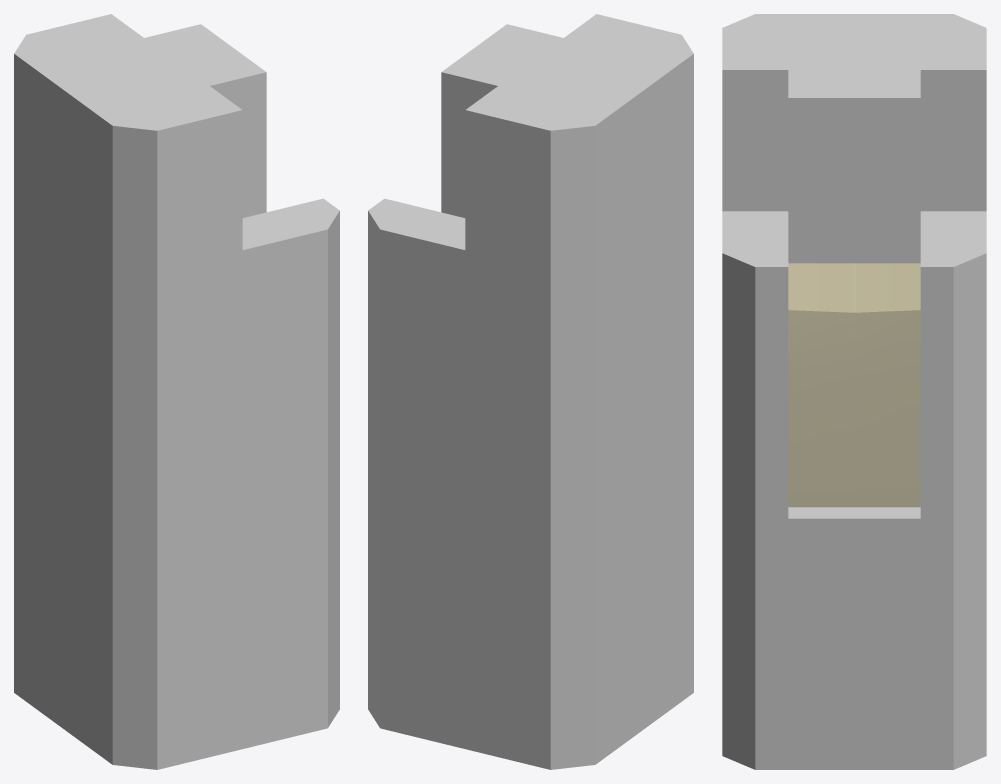
File: Marble Building.fbx
3 renders of one model, left to right at view 1: azimuth 30°, elevation 25°; view 2: azimuth 150°, elevation 25°; view 3: azimuth 270°, elevation 25°, orthographic.
Parts seen in each view (by area): view 1: Marble_Building; view 2: Marble_Building; view 3: Marble_Building.
Part boxes in pixels (box(x1,y1,x2,y2)): Marble_Building: box(14, 14, 339, 769); Marble_Building: box(368, 14, 693, 769); Marble_Building: box(722, 14, 986, 769).
Size of the model in its own units: 32.03 by 86.08 by 32.03.
